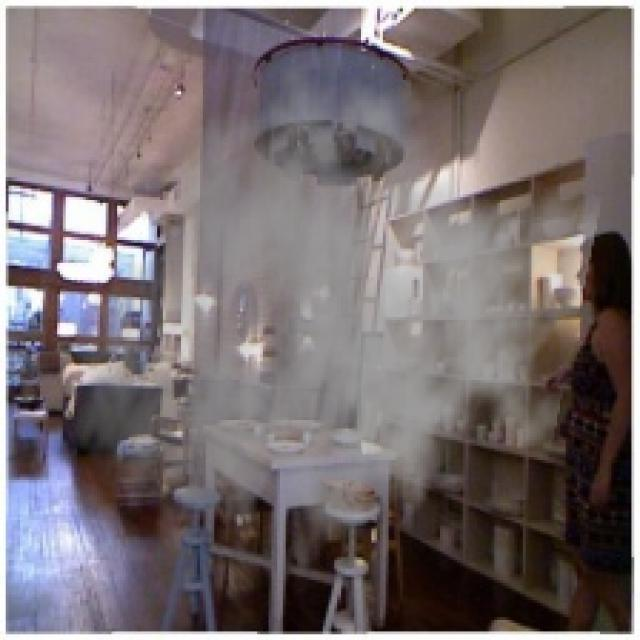Smoke: (66, 57, 603, 594)
